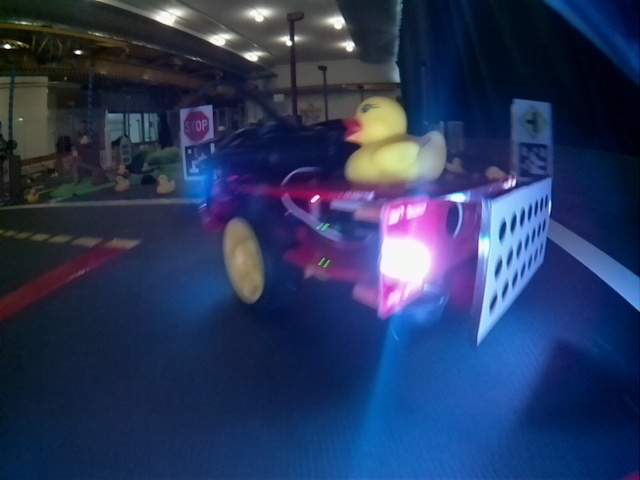Duckie: (346, 100, 446, 187), (157, 176, 175, 194), (114, 176, 130, 191)
Duckiebot: (202, 129, 550, 346)
Intersection sign: (517, 104, 548, 139)
QR code: (517, 143, 549, 178), (185, 144, 211, 178)
